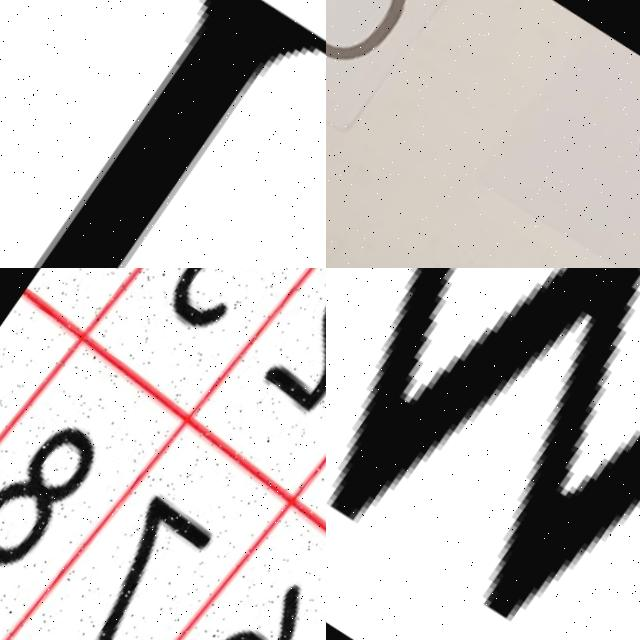0: (326, 0, 434, 101)
2: (253, 268, 326, 438)
3: (151, 268, 314, 356)
6: (170, 560, 326, 640)
7: (51, 478, 228, 640)
8: (0, 404, 119, 591), (618, 82, 640, 210)
9: (0, 339, 18, 498)
J: (0, 0, 326, 268)
W: (326, 268, 640, 640)
